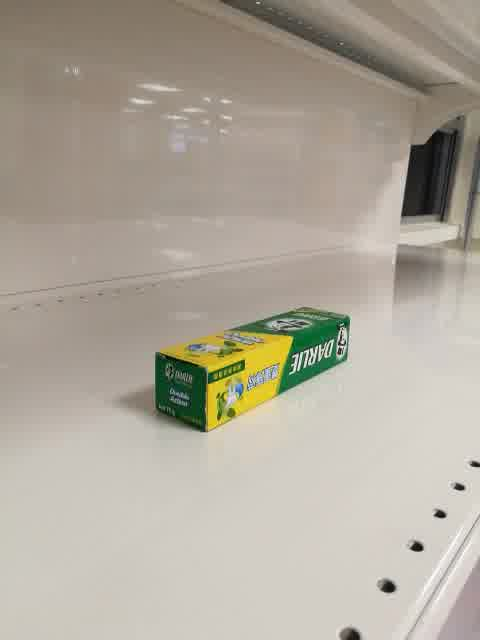toothpaste: (155, 301, 354, 433)
